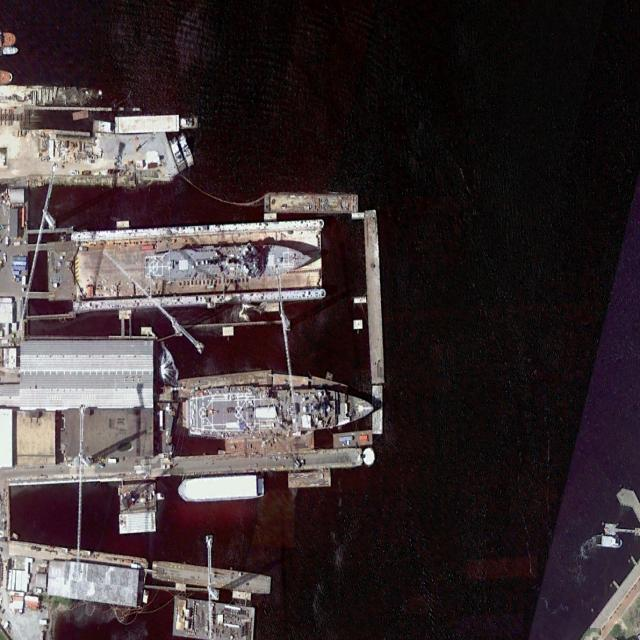Destroyer: (143, 239, 311, 280)
Landing: (186, 381, 375, 437)
Other Ship: (176, 472, 265, 503)
